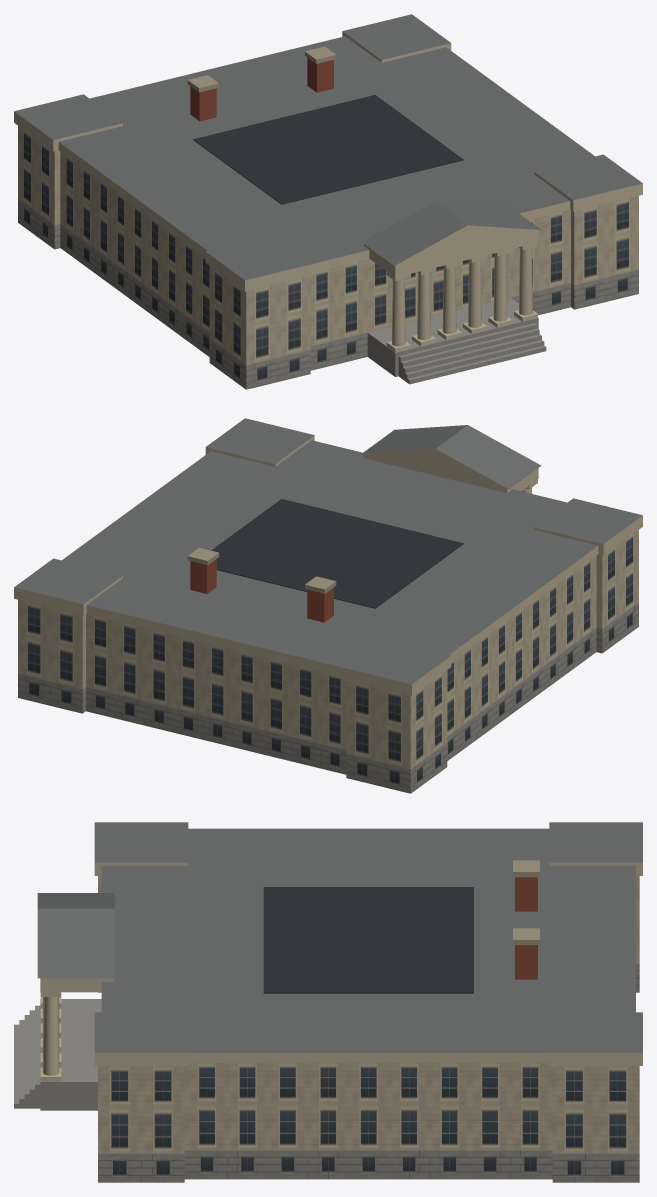
The model's file is old_mint.glb.
3 views of the same model, one above another, from view 1: azimuth 30°, elevation 25°; view 2: azimuth 150°, elevation 25°; view 3: azimuth 270°, elevation 25° (orthographic). The views are drawn at different scales.
Visible parts, largest first — view 1: old_mint; view 2: old_mint; view 3: old_mint.
Part boxes in pixels (x1,y1,x2,y2): old_mint: [14, 14, 642, 389]; old_mint: [14, 418, 642, 793]; old_mint: [14, 822, 642, 1182].
Bounding box in the file's own units: 58.5 × 20 × 67.5.
2 materials, 2 textured.
